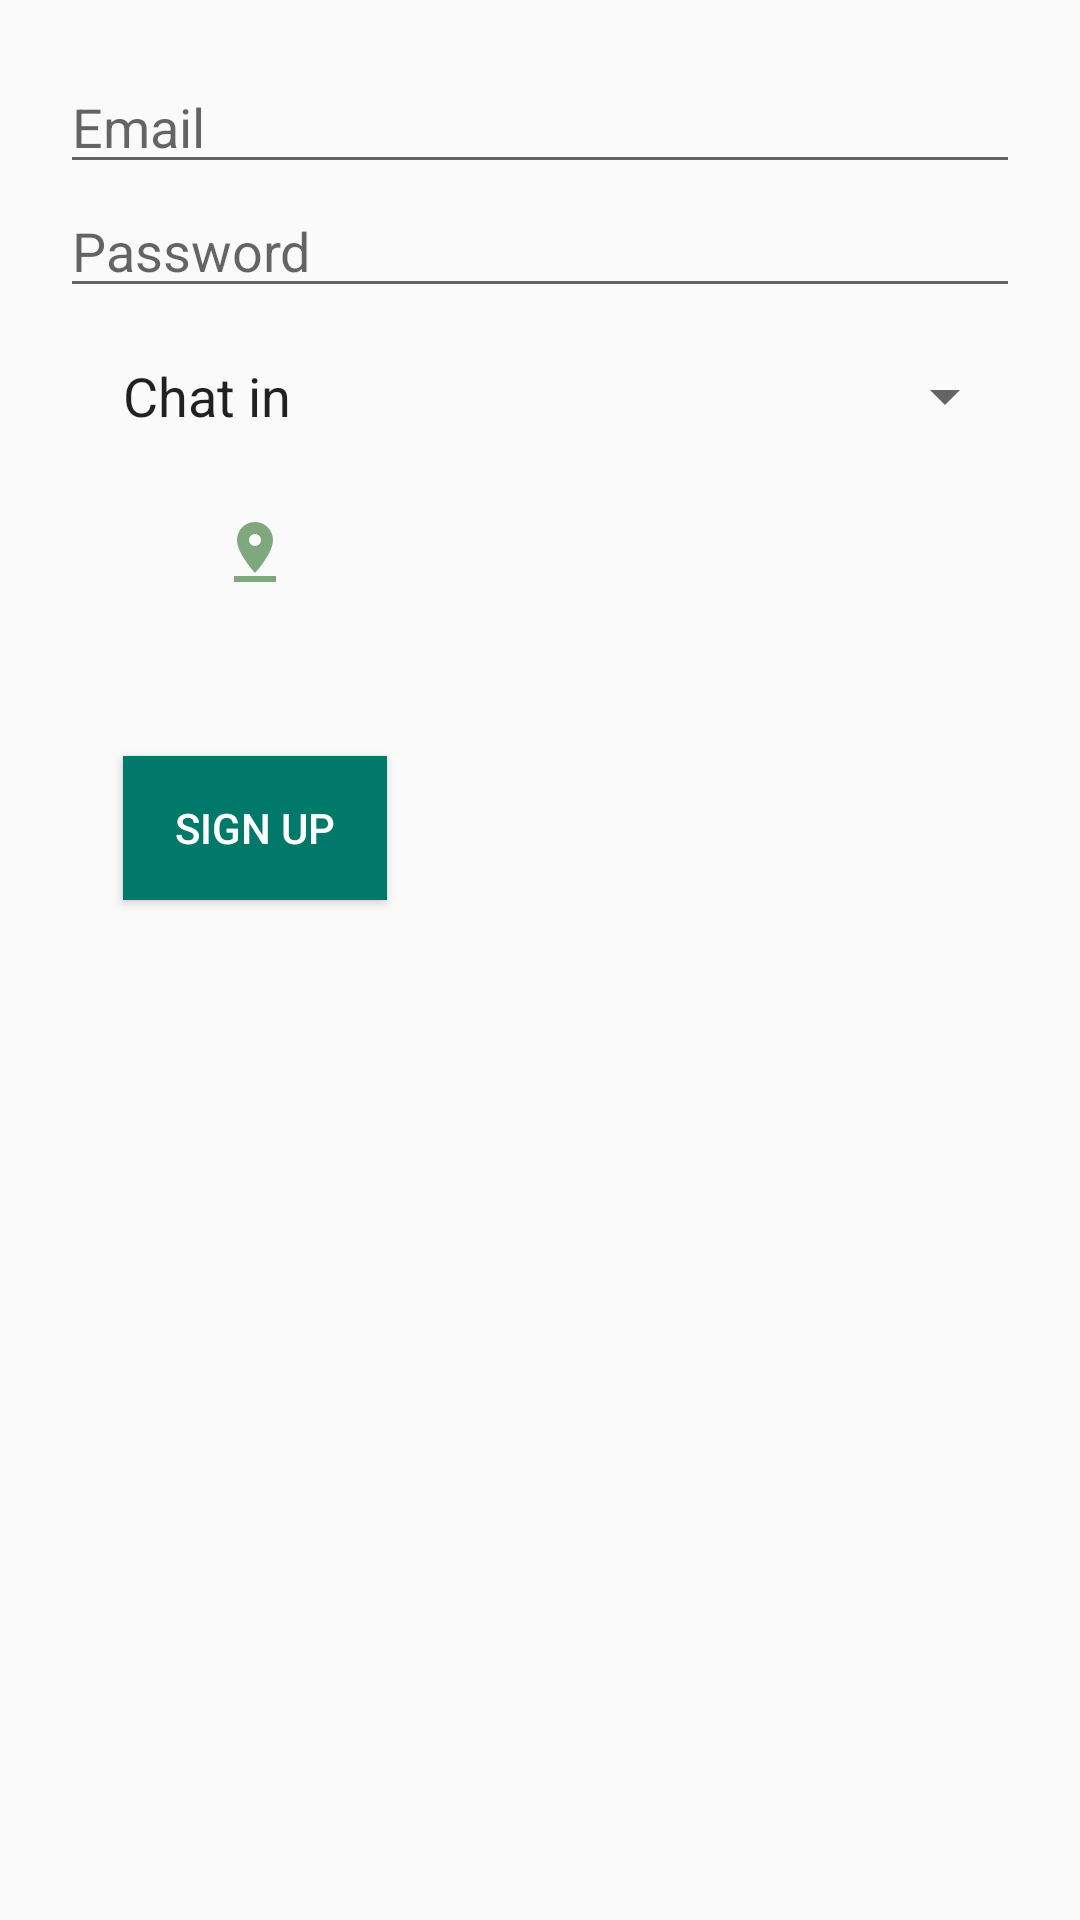

Named icons in this screenshot (1080px×1920px) and their bounding boxes, (x1, y1, x2, y2):
pin drop: (234, 522, 276, 582)
